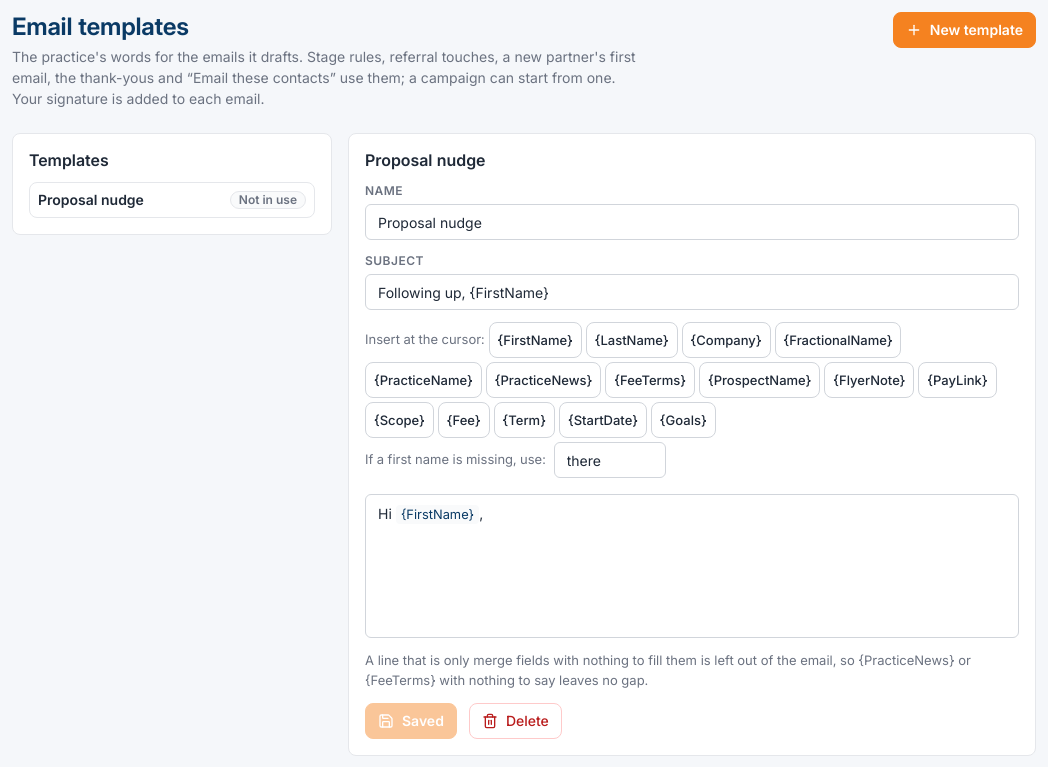
Test: Email templates › says why a save was refused
The width and height of the screenshot is (1048, 767).
Type "!" into the field named "Subject" at (692, 292), box [365,274,1019,310]
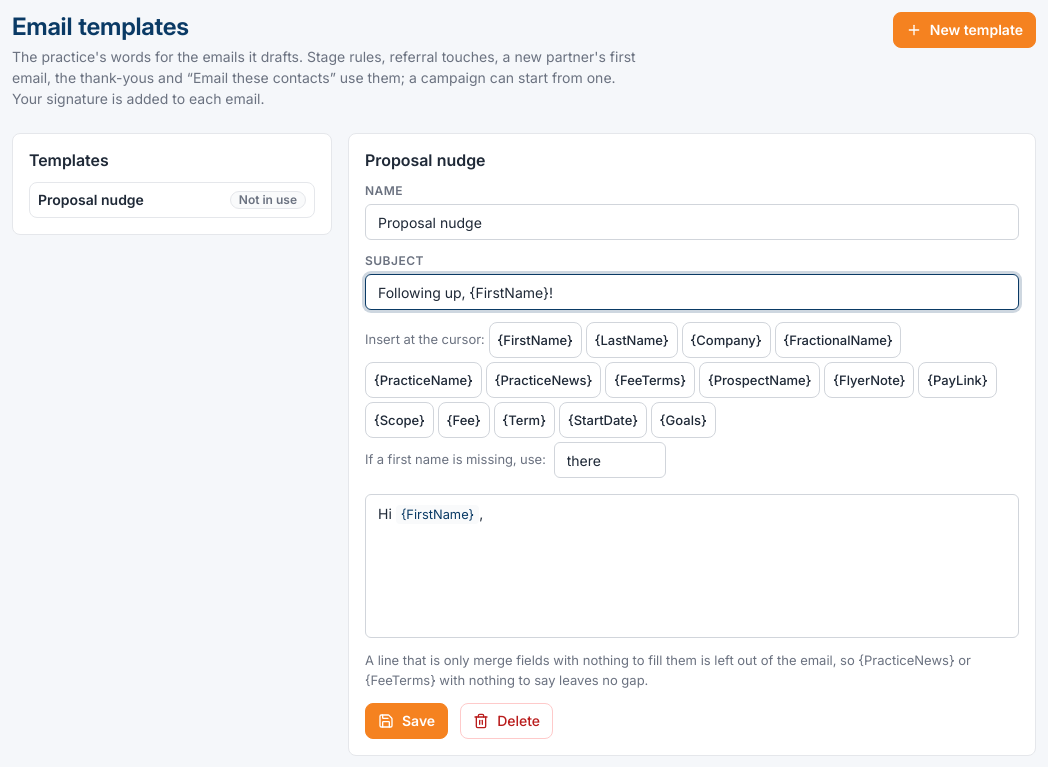
Click the button "Save" at (407, 721), box [365,703,448,739]
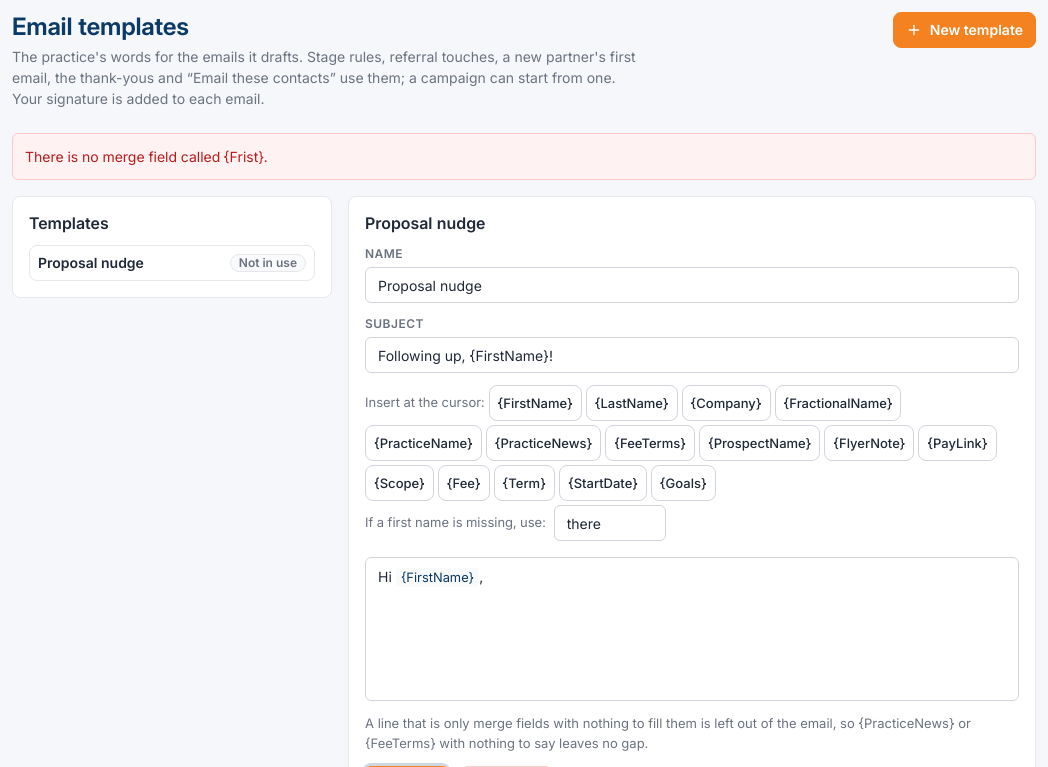
Expected: the text "There is no merge field called {Frist}." is shown, [25,148,268,165]
